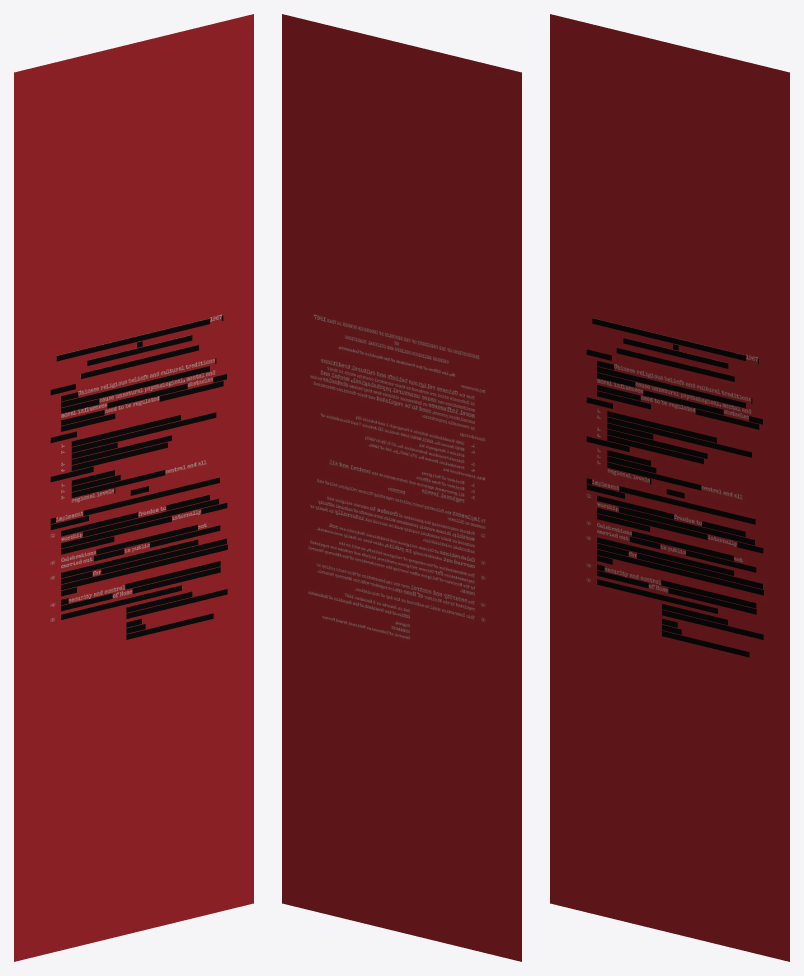
File: page12-01.glb
The picture shows the model from 3 angles, left to right: view 1: azimuth 30°, elevation 25°; view 2: azimuth 150°, elevation 25°; view 3: azimuth 330°, elevation 25°; orthographic projection.
Visible parts, largest first — view 1: BG_0.002, P12.002; view 2: BG_0.002; view 3: BG_0.002, P12.002.
Boxes of the visible parts, x1,y1,x2,y2 form: BG_0.002: (14, 14, 253, 961); P12.002: (50, 315, 227, 639); BG_0.002: (282, 14, 521, 961); BG_0.002: (550, 14, 789, 961); P12.002: (586, 318, 763, 657).
Size of the model in its own units: 0.5841 by 2.07 by 0.000254.
2 materials, 1 textured.
